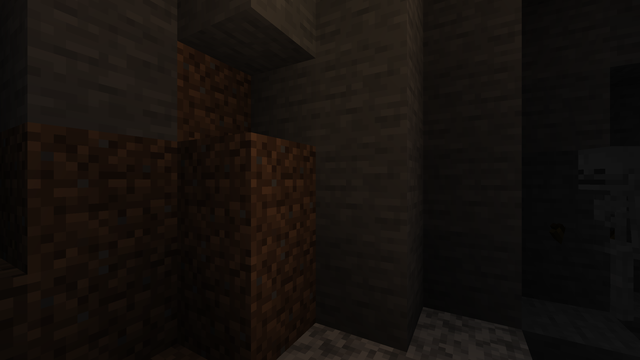squelettes: (572, 147, 638, 324)
